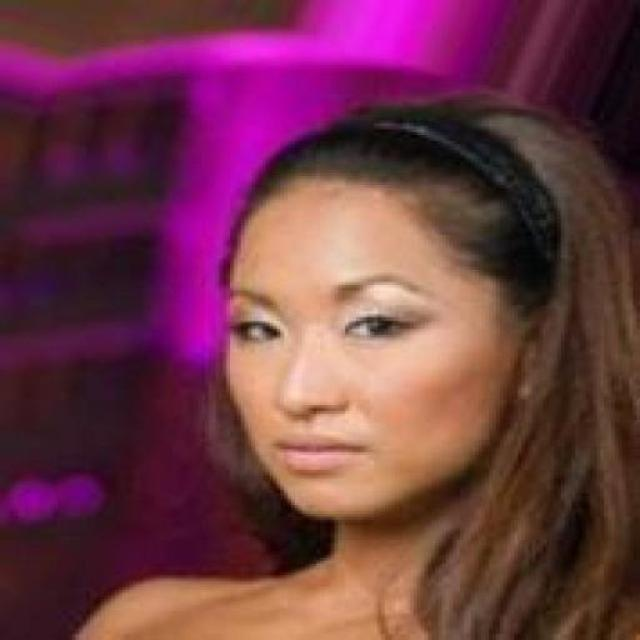bareface: (229, 125, 589, 491)
